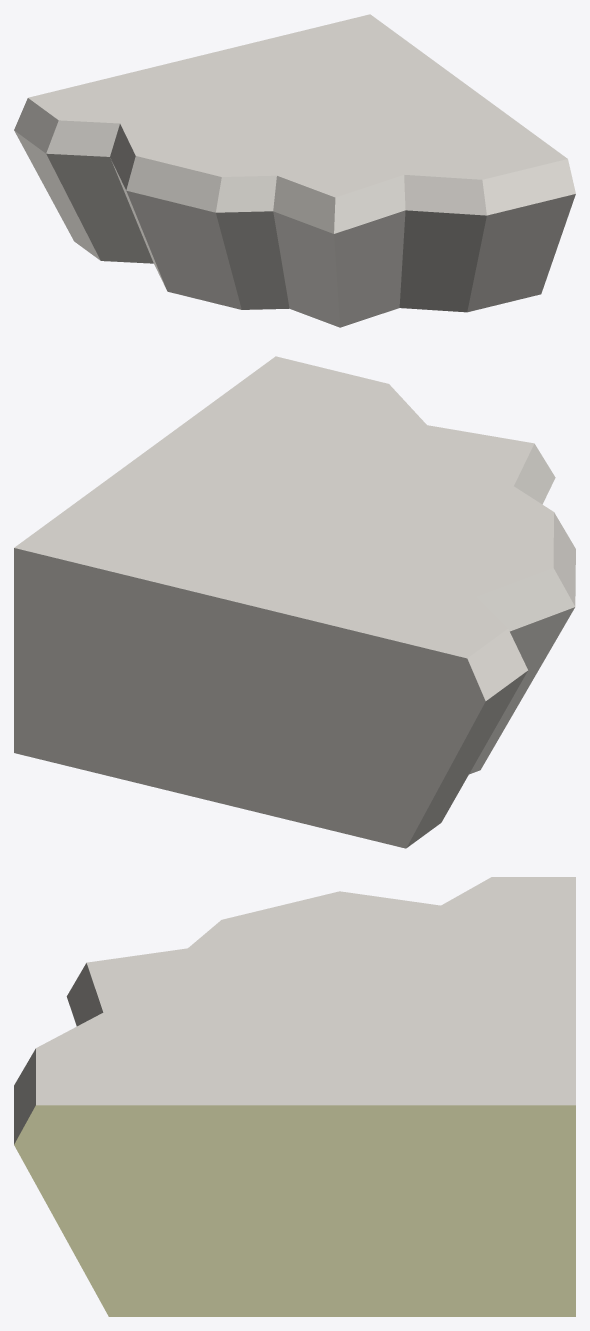
The model's file is Cracked_Curve_Outer_3x3_1_Top.glb.
The picture shows the model from 3 angles, top to bottom: view 1: azimuth 30°, elevation 25°; view 2: azimuth 150°, elevation 25°; view 3: azimuth 270°, elevation 25°; orthographic projection. The views are drawn at different scales.
Visible parts, largest first — view 1: Cracked_Curve_Outer_3x3_1_Top; view 2: Cracked_Curve_Outer_3x3_1_Top; view 3: Cracked_Curve_Outer_3x3_1_Top.
Boxes of the visible parts, box(x1,y1,x2,y2) form: Cracked_Curve_Outer_3x3_1_Top: box(14, 14, 575, 327); Cracked_Curve_Outer_3x3_1_Top: box(14, 356, 575, 848); Cracked_Curve_Outer_3x3_1_Top: box(14, 877, 575, 1316).
Bounding box in the file's own units: 241 × 100 × 241.
